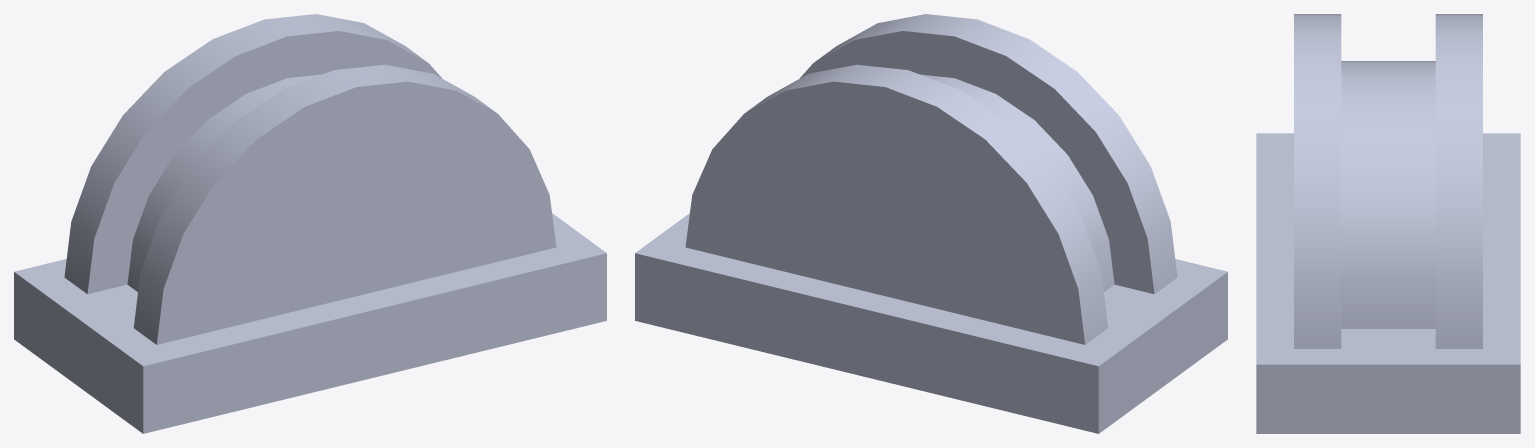
Rendered from lever-col.glb.
3 renders of one model, left to right at view 1: azimuth 30°, elevation 25°; view 2: azimuth 150°, elevation 25°; view 3: azimuth 270°, elevation 25°, orthographic. The views are drawn at different scales.
Parts seen in each view (by area): view 1: lever-col; view 2: lever-col; view 3: lever-col.
Part boxes in pixels (x1,y1,x2,y2): lever-col: [14, 14, 606, 433]; lever-col: [635, 14, 1227, 433]; lever-col: [1256, 14, 1520, 433].
Size of the model in its own units: 0.58 by 0.3308 by 0.28.
